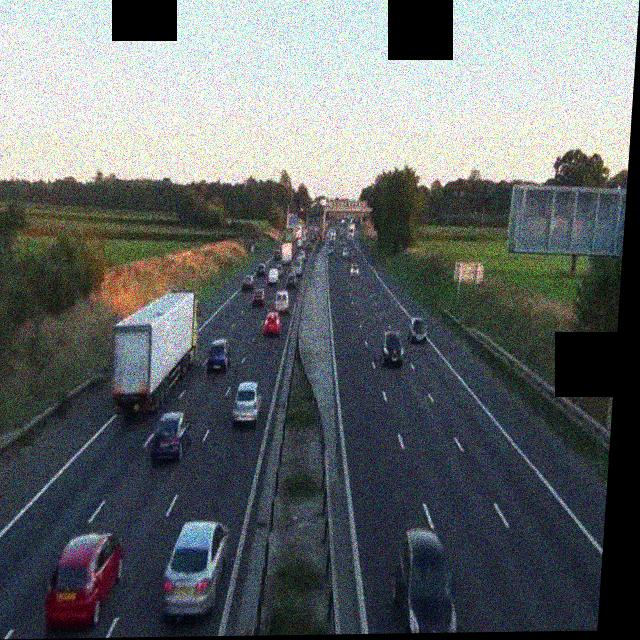car: (390, 529, 463, 634), (45, 532, 123, 629), (162, 519, 229, 618), (151, 411, 192, 462), (231, 381, 262, 425), (380, 327, 406, 368), (206, 338, 231, 373), (407, 317, 428, 344), (263, 313, 281, 335), (275, 291, 290, 313), (251, 289, 265, 307), (242, 274, 255, 291), (267, 266, 279, 282), (292, 261, 303, 275), (351, 262, 360, 277), (338, 247, 347, 257)
truck: (108, 291, 199, 414), (279, 239, 293, 262), (346, 221, 355, 237)
